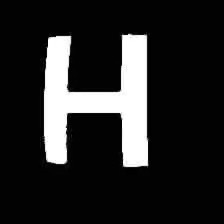LTR_H: (35, 20, 159, 174)
